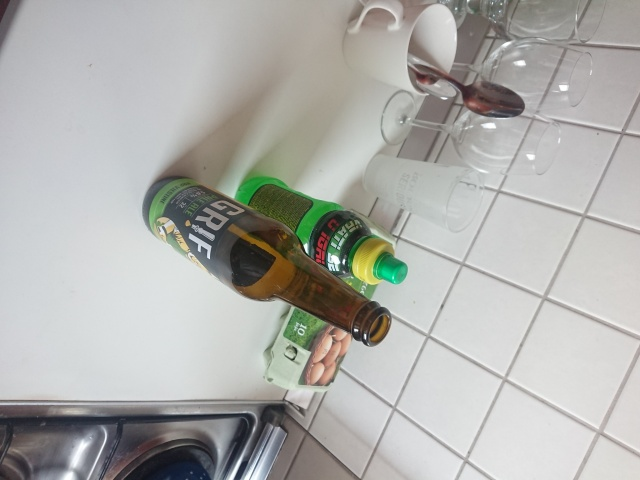Vindi Iso Sport Lemon-Grapefruit 500mL: (228, 174, 410, 288)
